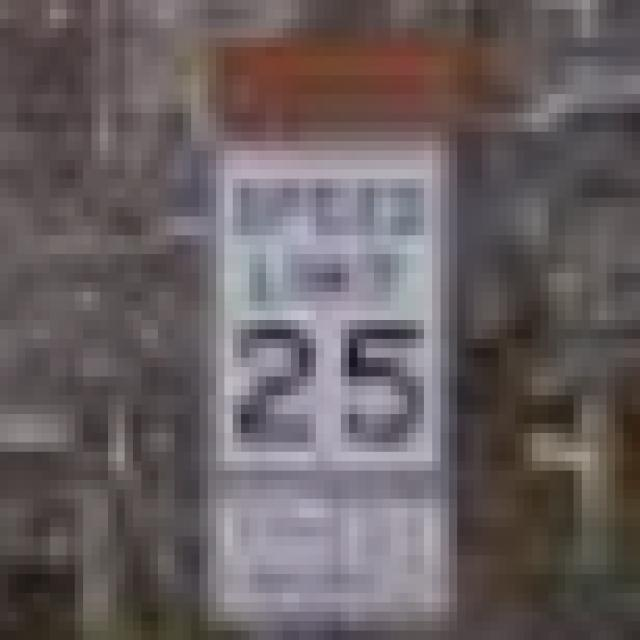speedLimit25: (223, 145, 452, 481)
